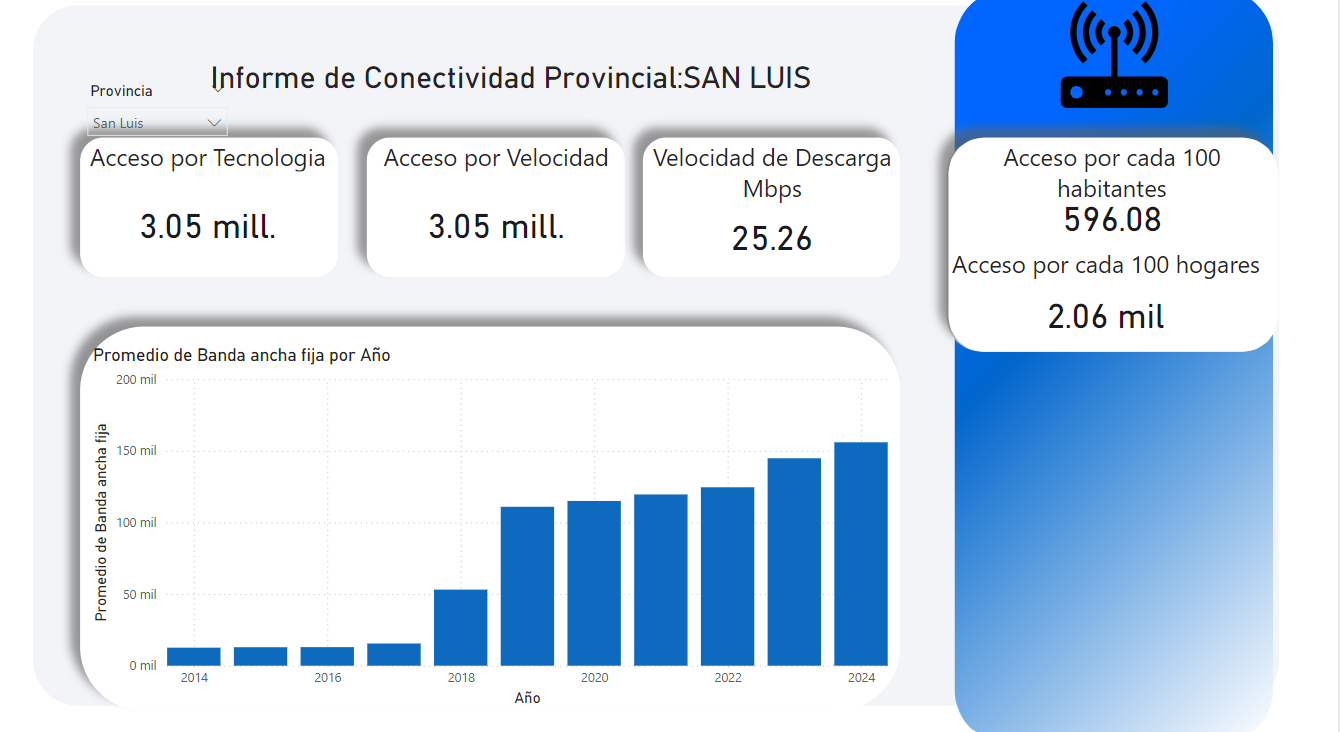

What the dashboard file says about the page in this screenshot:
{"tool":"powerbi","page":{"name":"General","canvas":[1280,720],"ordinal":0},"visuals":[{"type":"slicer","fields":{"Values":["pi_da provincias.Provincia"]},"box":[78.2,81,153.7,57.6],"z":0},{"type":"card","fields":{"Values":["pi_da provincias.Medida"]},"box":[78.2,48,827.4,64.5],"z":1},{"type":"card","title":"Acceso por Tecnologia","fields":{"Values":["Sum(pi_da provincias.total_acc_tec)"]},"box":[68.6,140,269,138.6],"z":2},{"type":"card","title":"Acceso por Velocidad","fields":{"Values":["Sum(pi_da provincias.total_acc_vel)"]},"box":[359.5,140,237.4,138.6],"z":3},{"type":"card","title":"Velocidad de Descarga Mbps ","fields":{"Values":["Avg(pi_da provincias.Mbps (Media de bajada))"]},"box":[610.6,140,260.7,138.6],"z":4},{"type":"columnChart","fields":{"Category":["pi_da provincias.Año"],"Y":["Avg(pi_da provincias.Banda ancha fija)"]},"box":[89.2,336.2,767.1,349.9],"z":5},{"type":"card","title":"Acceso por cada 100 habitantes","fields":{"Values":["Sum(pi_da provincias.Accesos por cada 100 hab)"]},"box":[918,140,293.7,102.9],"z":6},{"type":"card","title":"Acceso por cada 100 hogares","fields":{"Values":["Sum(pi_da provincias.Accesos por cada 100 hogares)"]},"box":[905.7,242.9,306,105.7],"z":7}]}

Visuals, with their boxes in screenshot pixels (x1, y1, x2, y2), scaled from the page's 1280x720 canvas onto the 1340x732 screenshot:
slicer - pi_da provincias.Provincia: select_region(82, 82, 243, 141)
card - pi_da provincias.Medida: select_region(82, 49, 948, 114)
"Acceso por Tecnologia" card: select_region(72, 142, 353, 283)
"Acceso por Velocidad" card: select_region(376, 142, 625, 283)
"Velocidad de Descarga Mbps " card: select_region(639, 142, 912, 283)
columnChart - pi_da provincias.Año x Avg(pi_da provincias.Banda ancha fija): select_region(93, 342, 896, 698)
"Acceso por cada 100 habitantes" card: select_region(961, 142, 1268, 247)
"Acceso por cada 100 hogares" card: select_region(948, 247, 1268, 354)
